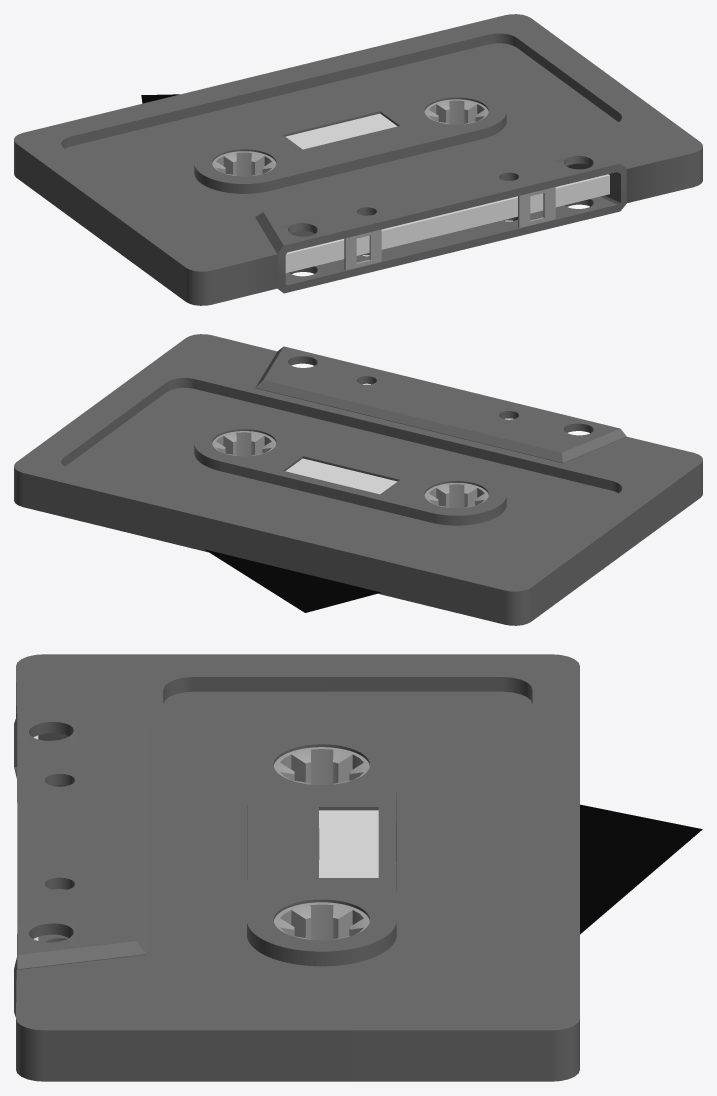
The model's file is annar.fbx.
3 views of the same model, one above another, from view 1: azimuth 30°, elevation 25°; view 2: azimuth 150°, elevation 25°; view 3: azimuth 270°, elevation 25° (orthographic). The views are drawn at different scales.
Parts seen in each view (by area): view 1: pCube8; view 2: pCube8; view 3: pCube8.
Boxes of the visible parts, x1,y1,x2,y2 form: pCube8: [14, 14, 702, 305]; pCube8: [14, 334, 702, 625]; pCube8: [14, 654, 702, 1081].
Size of the model in its own units: 28.65 by 2.61 by 22.18.
Materials: 5 (1 with a texture image).
